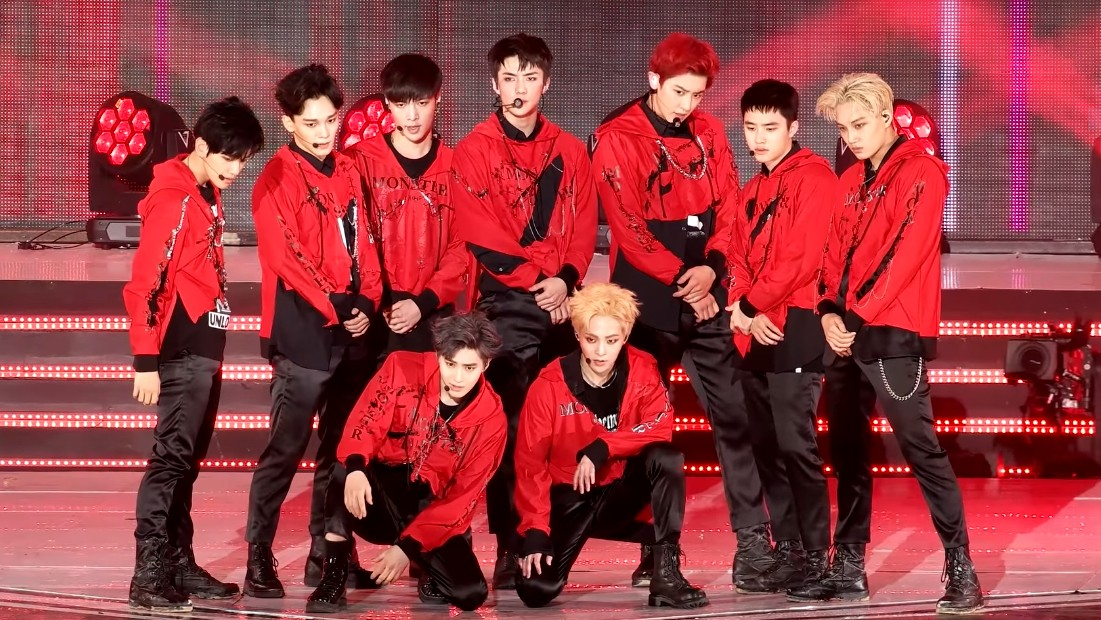people: (818, 69, 964, 602), (139, 91, 261, 596), (626, 29, 743, 535), (259, 57, 365, 582), (733, 76, 829, 582), (545, 277, 659, 597), (479, 36, 579, 382), (359, 51, 472, 354), (392, 308, 504, 608)
